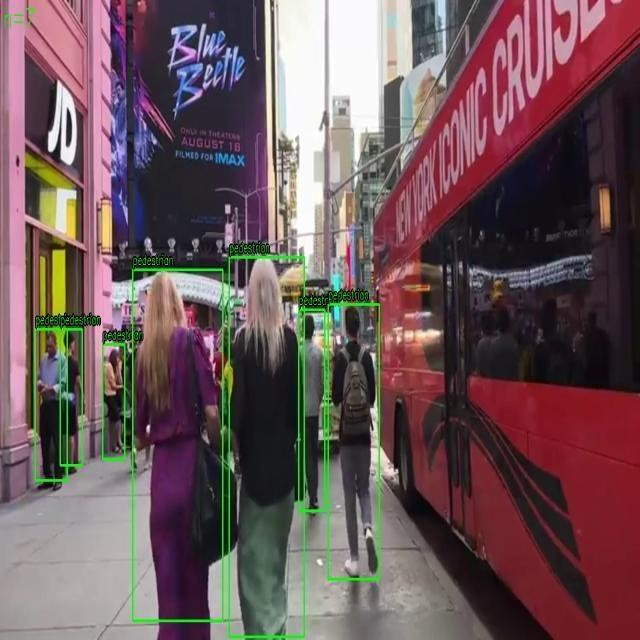person: (132, 269, 224, 622), (229, 257, 305, 637), (328, 304, 380, 580), (298, 309, 326, 511), (34, 329, 68, 481), (59, 329, 82, 466), (102, 344, 126, 460)
